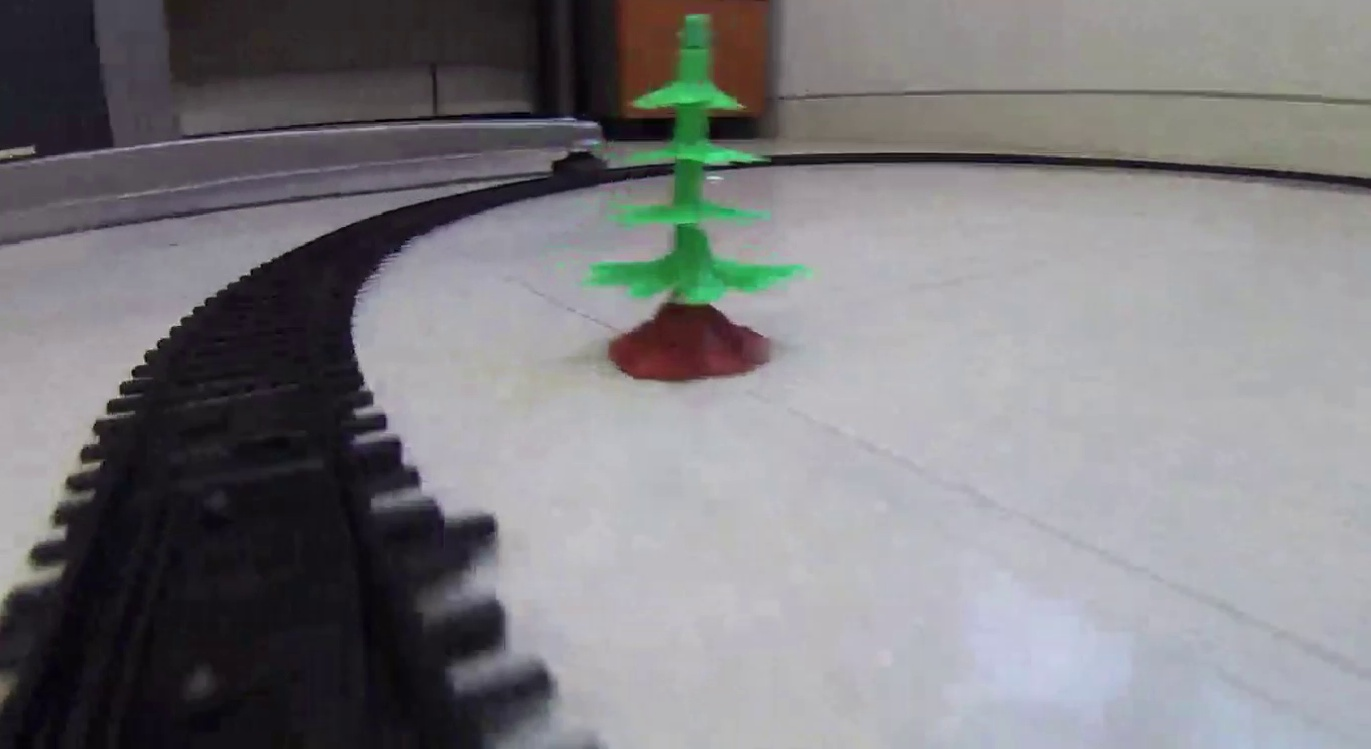tree: (583, 14, 812, 384)
